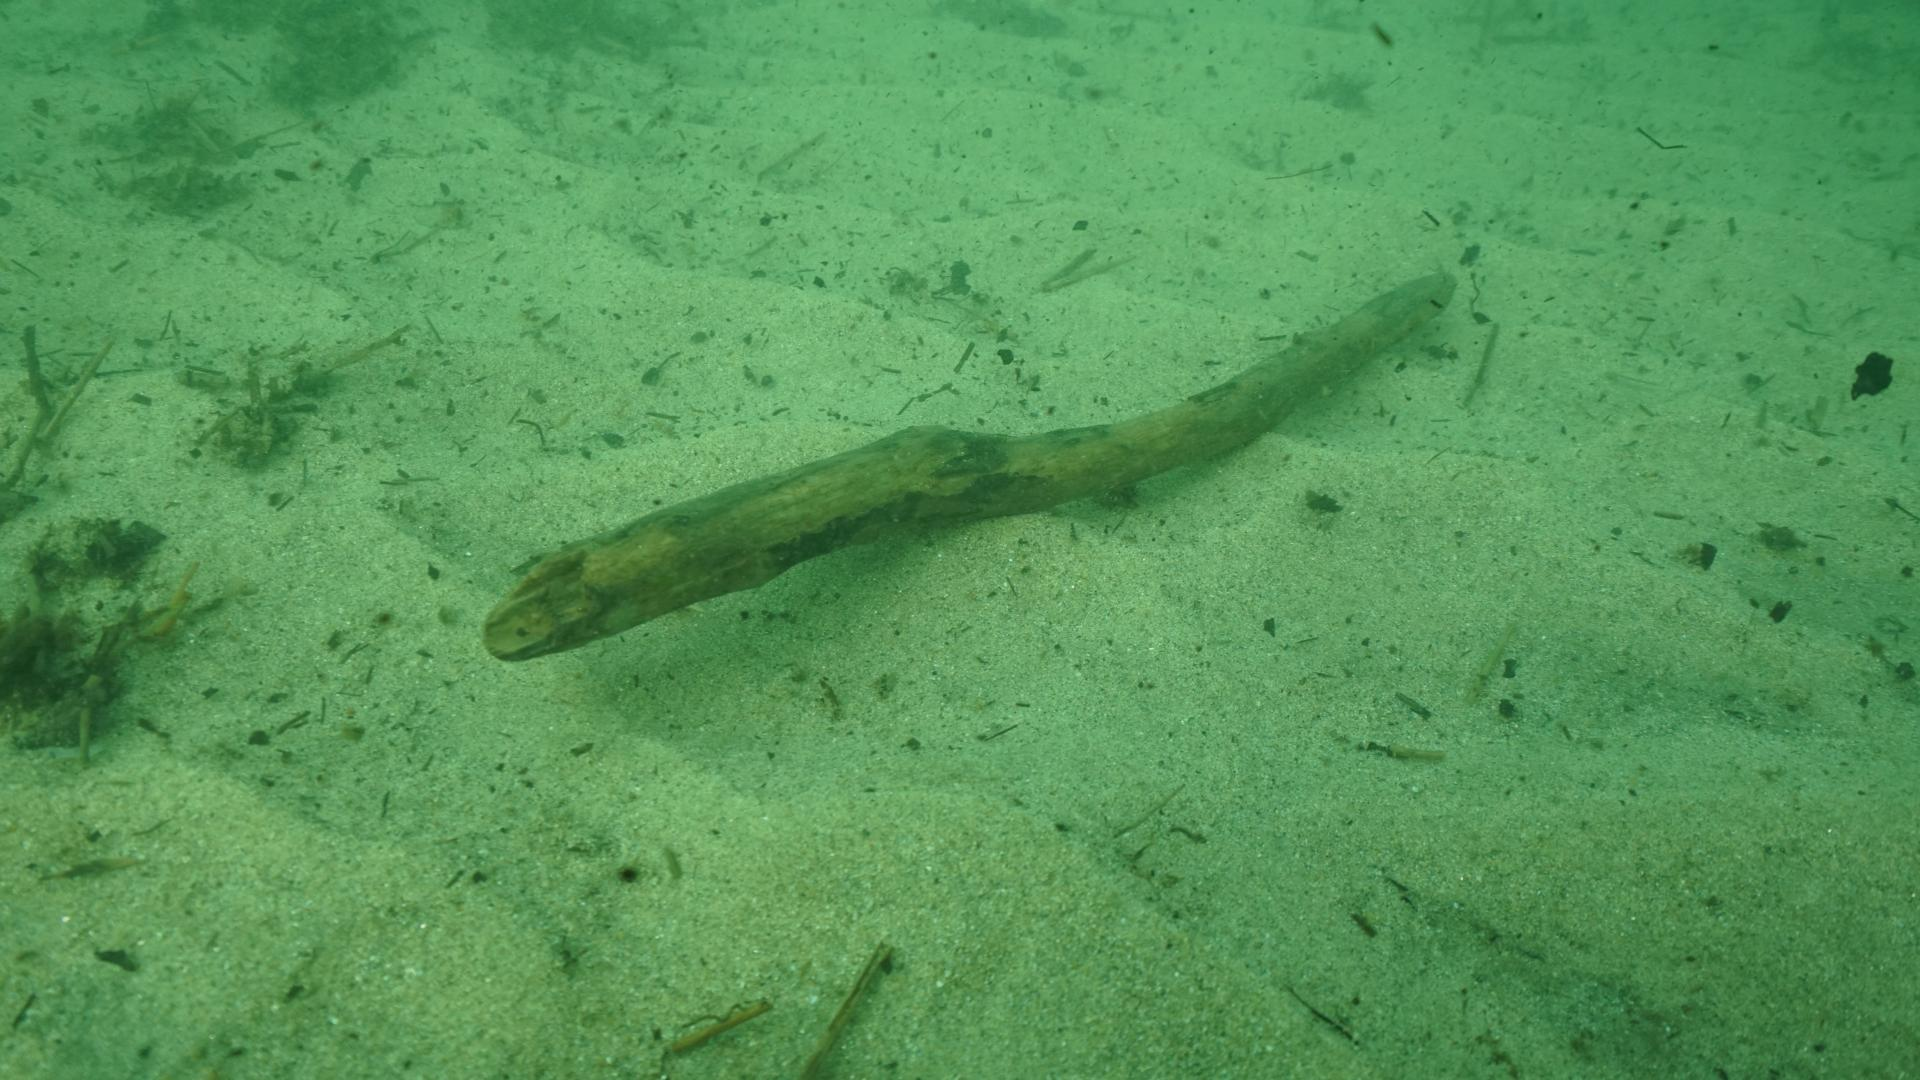wood: (477, 268, 1455, 665)
